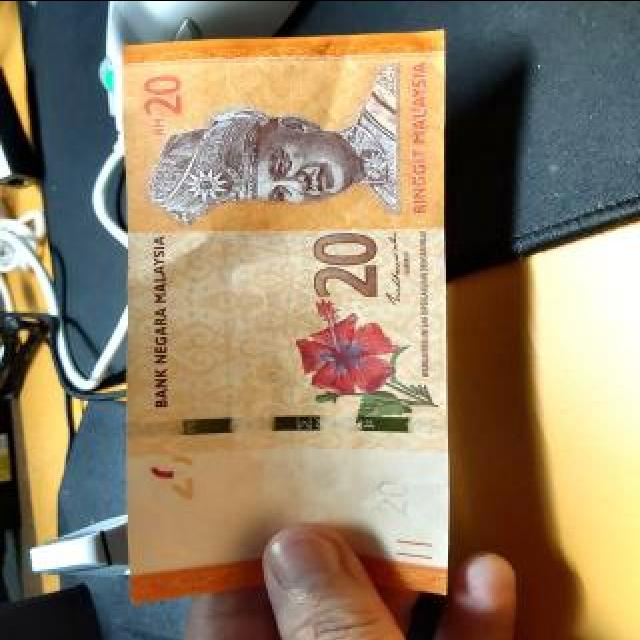20 Ringgit: (126, 33, 446, 626)
